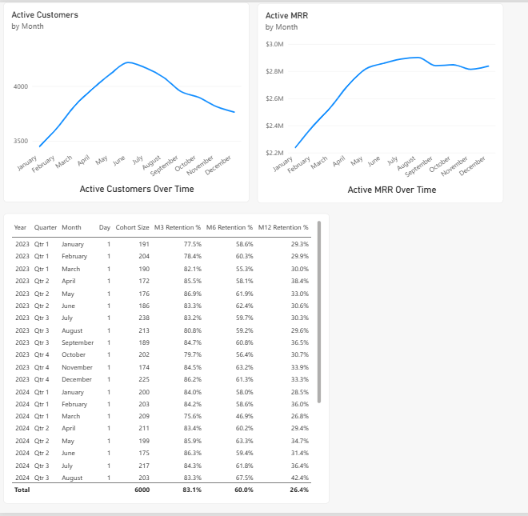

What the dashboard file says about the page in this screenshot:
{"tool":"powerbi","page":{"name":"Customer Lifecycle","canvas":[1920,1080],"ordinal":3},"visuals":[{"type":"lineChart","fields":{"Category":["CustomerMonthlyActivity.snapshot_month.Variation.Date Hierarchy.Month"],"Y":["CustomerMonthlyActivity.Active Customers"]},"box":[10.6,0,520.9,423.5],"z":0},{"type":"lineChart","fields":{"Category":["CustomerMonthlyActivity.snapshot_month.Variation.Date Hierarchy.Month"],"Y":["CustomerMonthlyActivity.Active MRR"]},"box":[548.4,2.1,521,423],"z":1},{"type":"tableEx","fields":{"Values":["CustomerMonthlyActivity.cohort_month.Variation.Date Hierarchy.Year","CustomerMonthlyActivity.cohort_month.Variation.Date Hierarchy.Quarter","CustomerMonthlyActivity.cohort_month.Variation.Date Hierarchy.Month","CustomerMonthlyActivity.cohort_month.Variation.Date Hierarchy.Day","CustomerMonthlyActivity.Cohort Size","CustomerMonthlyActivity.M3 Retention %","CustomerMonthlyActivity.M6 Retention %","CustomerMonthlyActivity.M12 Retention %"]},"box":[10.6,446.8,690.3,614],"z":2}]}

Visuals, with their boxes on the page's 1920x1080 design canvas (x1, y1, x2, y2). These are canvas units, not pixel positions in the 528x516 screenshot, which may show the page scaled, cropped or inside an application window:
lineChart - CustomerMonthlyActivity.snapshot_month.Variation.Date Hierarchy.Month x CustomerMonthlyActivity.Active Customers: Rect(11, 0, 532, 424)
lineChart - CustomerMonthlyActivity.snapshot_month.Variation.Date Hierarchy.Month x CustomerMonthlyActivity.Active MRR: Rect(548, 2, 1069, 425)
tableEx - CustomerMonthlyActivity.cohort_month.Variation.Date Hierarchy.Year x CustomerMonthlyActivity.cohort_month.Variation.Date Hierarchy.Quarter: Rect(11, 447, 701, 1061)
